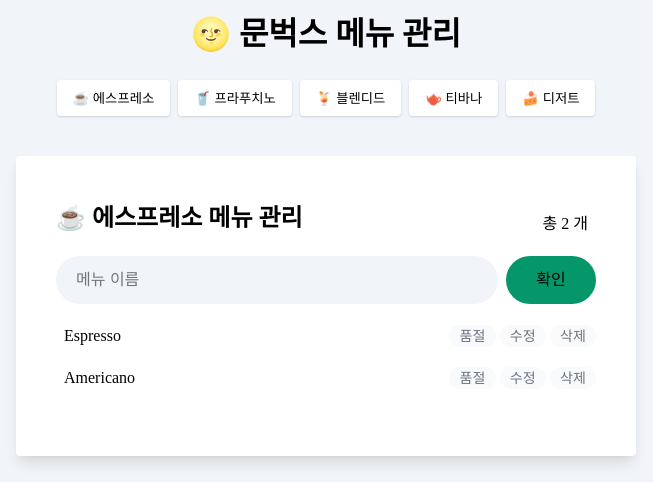
Test case: 메인 페이지 테스팅 › 메뉴 수정 관련 테스팅 › 등록 된 메뉴들에 대해 첫번째 메뉴 이름 수정이 가능해야 한다.
The width and height of the screenshot is (653, 482).
Click the button with class "menu-edit-button" in the row of "Espresso" at x=523, y=336, box [500, 325, 546, 347]
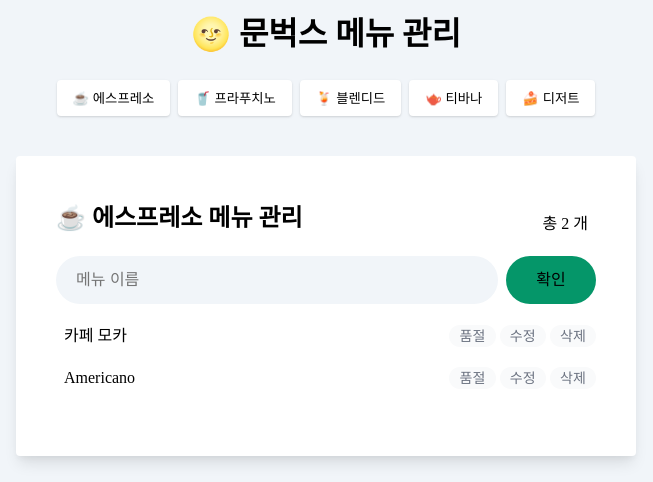
Result: the text "카페 모카" is shown at [64, 327, 127, 344]
